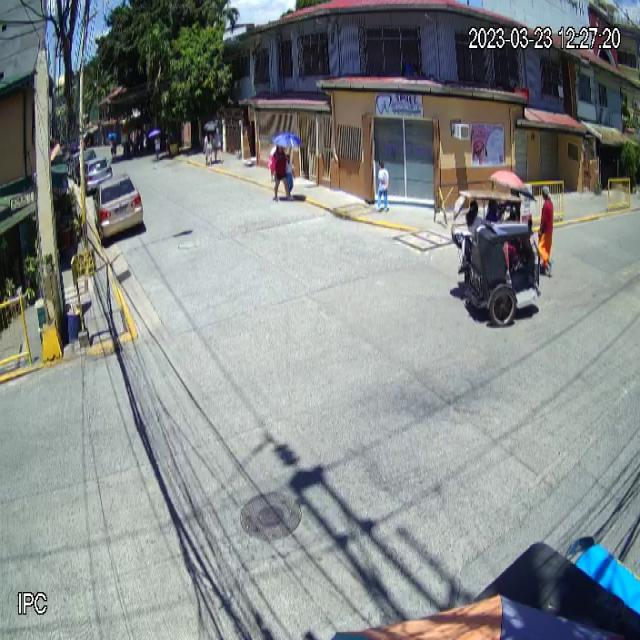Tricycle: (450, 188, 542, 328)
